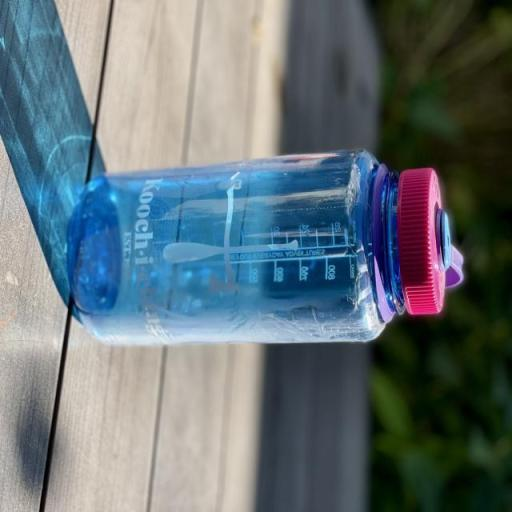bottle: (64, 144, 464, 350)
